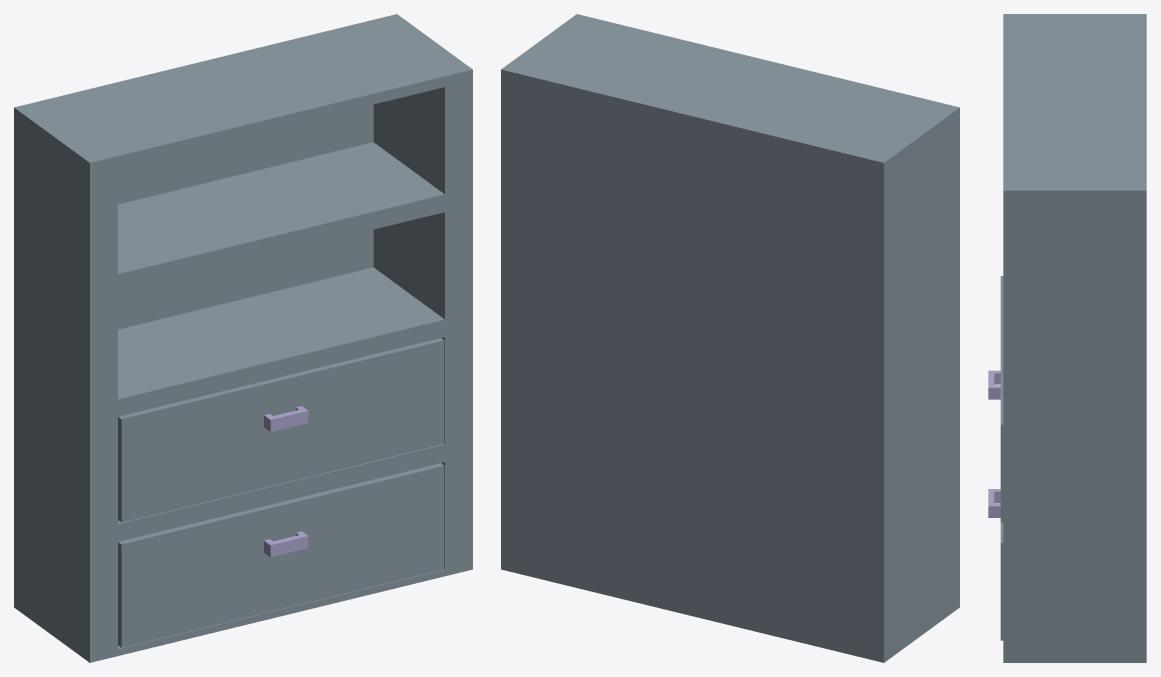
Rendered from BigShelve.fbx.
3 renders of one model, left to right at view 1: azimuth 30°, elevation 25°; view 2: azimuth 150°, elevation 25°; view 3: azimuth 270°, elevation 25°, orthographic. The views are drawn at different scales.
Parts seen in each view (by area): view 1: Cube.224; view 2: Cube.224; view 3: Cube.224.
Boxes of the visible parts, x1,y1,x2,y2 form: Cube.224: (14,14,472,662); Cube.224: (501,14,959,662); Cube.224: (988,14,1146,662).
Bounding box in the file's own units: 583 × 727 × 221.
